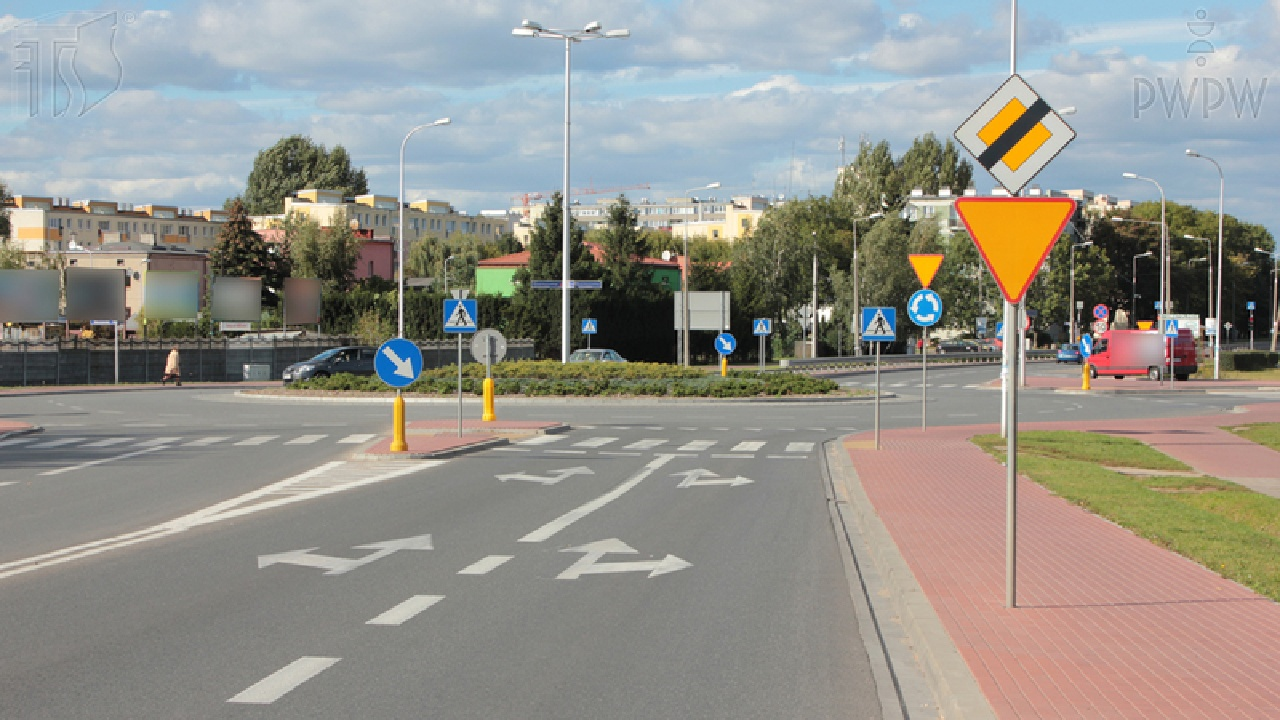A7: (954, 197, 1077, 304), (907, 254, 944, 289)
C12: (907, 289, 943, 327)
C9: (373, 338, 423, 387), (714, 333, 736, 354)
D2: (954, 73, 1078, 194)
D6: (442, 300, 477, 333), (861, 307, 894, 341)
